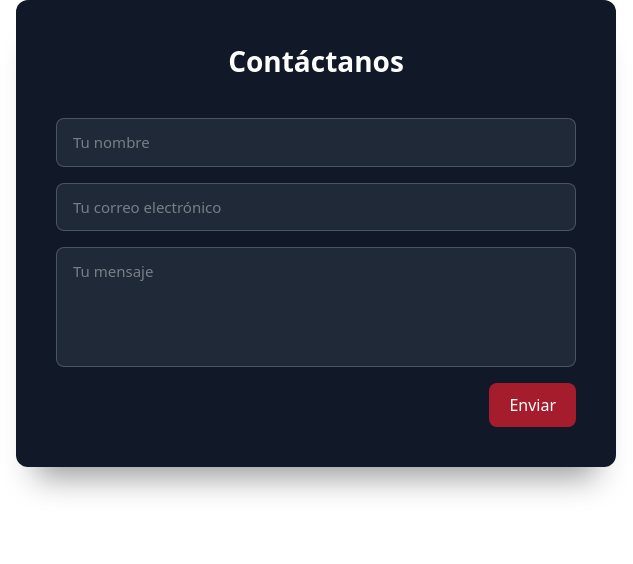
Test: ContactForm › muestra mensaje de error si ocurre un error
In the field with placeholder "Tu nombre": point(316, 142) [56, 118, 576, 166], type "Juan"
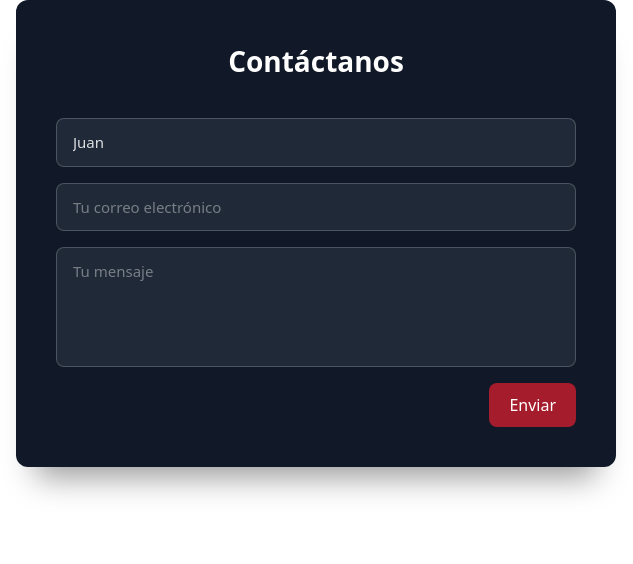
In the field with placeholder "Tu correo electrónico": point(316, 207) [56, 182, 576, 231], type "juan@mail.com"
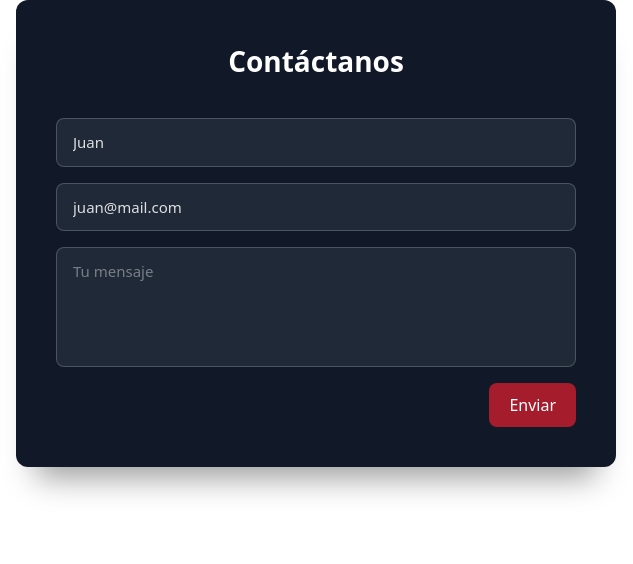
In the text box with placeholder "Tu mensaje": point(316, 307) [56, 247, 576, 367], type "Hola!"
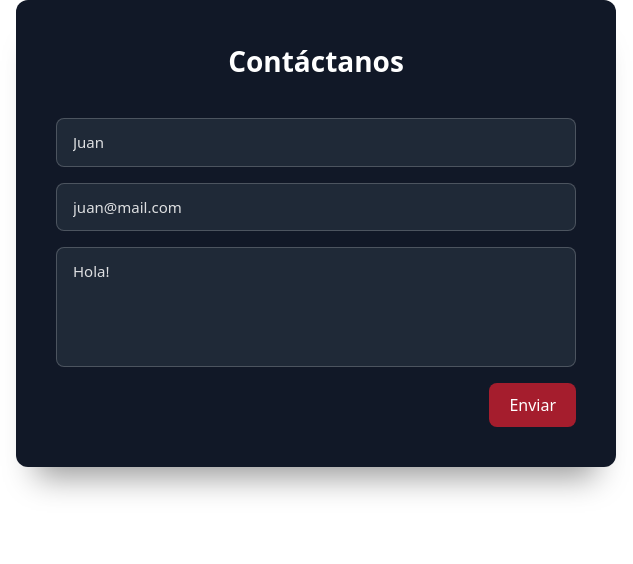
Click the button "Enviar": point(533, 405) [489, 383, 576, 427]
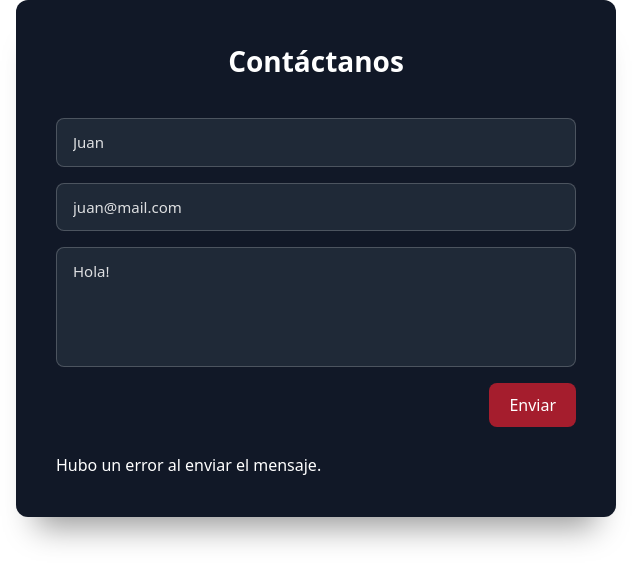
Check: the text "Hubo un error al enviar el mensaje." is shown, box [56, 454, 321, 476]
